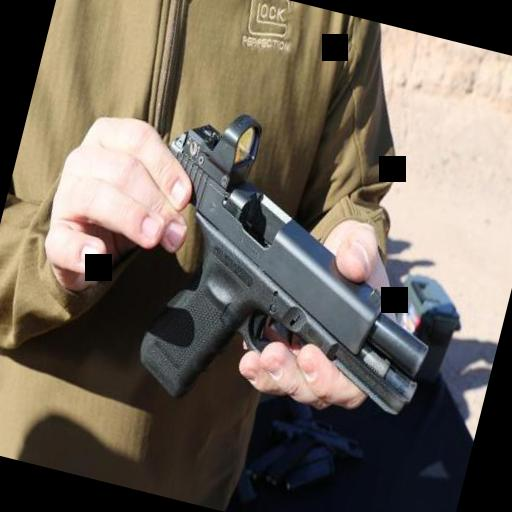Handgun: (86, 70, 480, 455)
